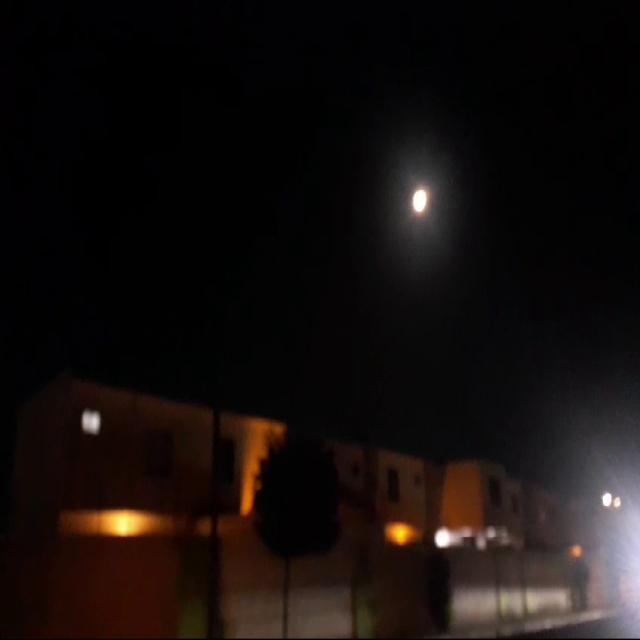moon: (422, 182, 442, 216)
